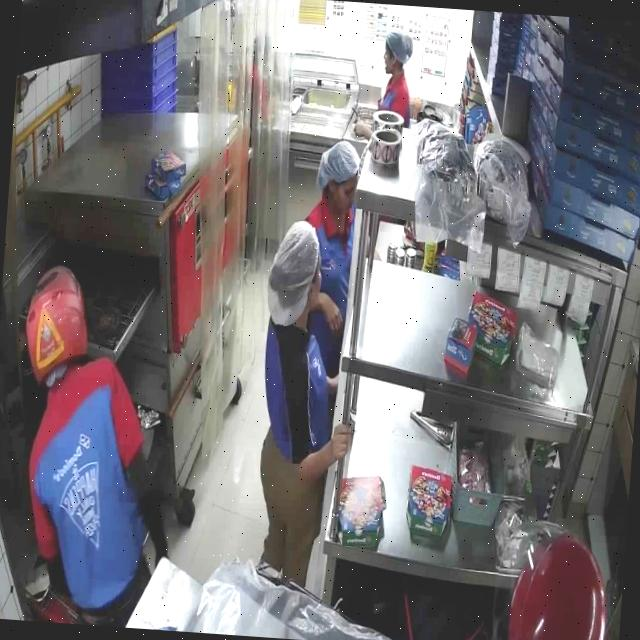helmet: (26, 266, 88, 380)
no_helmet: (267, 220, 320, 329), (315, 140, 360, 221), (383, 31, 413, 81)
